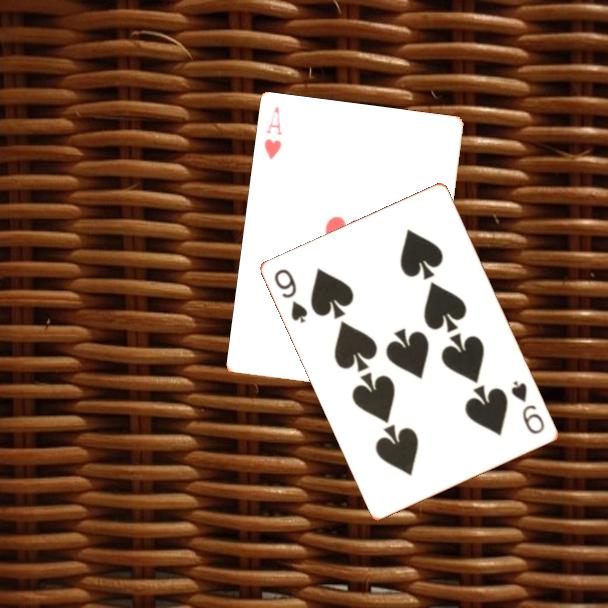h01: (261, 103, 286, 163)
s09: (508, 377, 548, 437), (271, 266, 311, 326)
